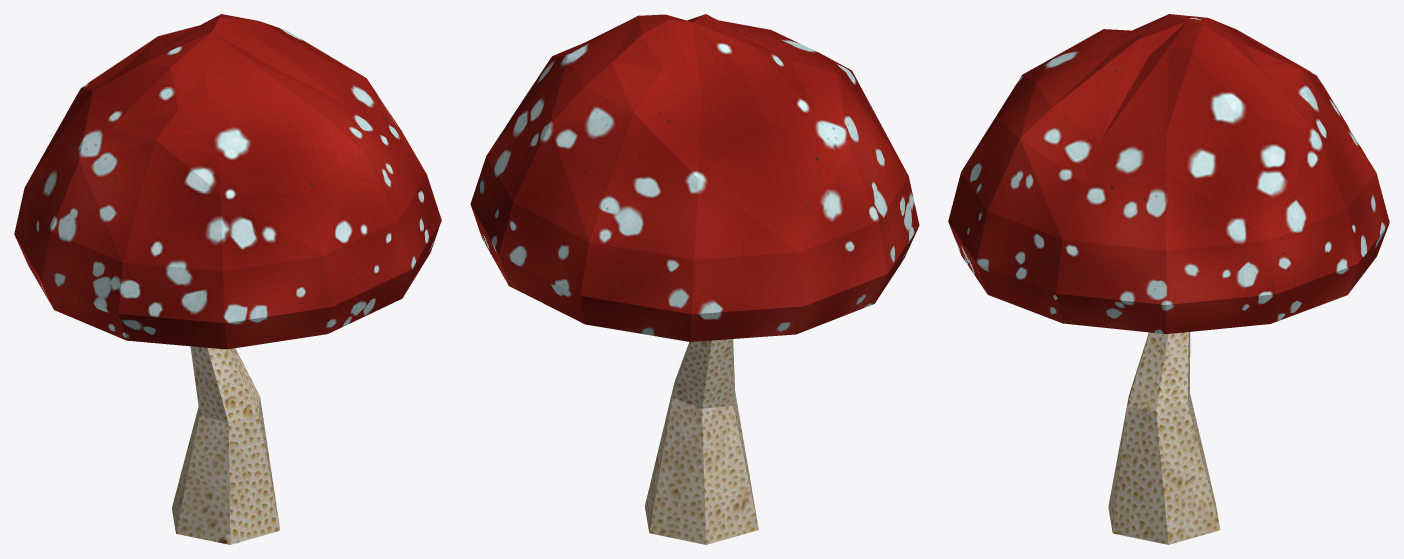
Rendered from fungo_1.fbx.
3 views of the same model, side by side, from view 1: azimuth 30°, elevation 25°; view 2: azimuth 150°, elevation 25°; view 3: azimuth 270°, elevation 25° (orthographic). The views are drawn at different scales.
Visible parts, largest first — view 1: fungo_1; view 2: fungo_1; view 3: fungo_1.
Boxes of the visible parts, x1,y1,x2,y2 form: fungo_1: (14,14,441,544); fungo_1: (470,14,919,544); fungo_1: (948,14,1389,544).
Size of the model in its own units: 16.41 by 20.56 by 16.43.
